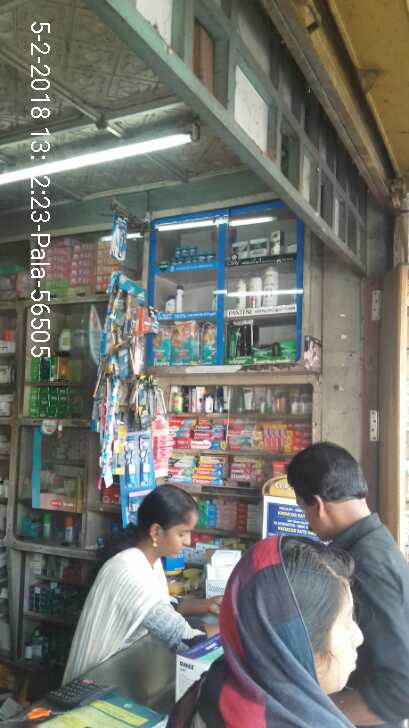oralcare: (116, 429, 152, 487)
vicks: (170, 239, 223, 269)
